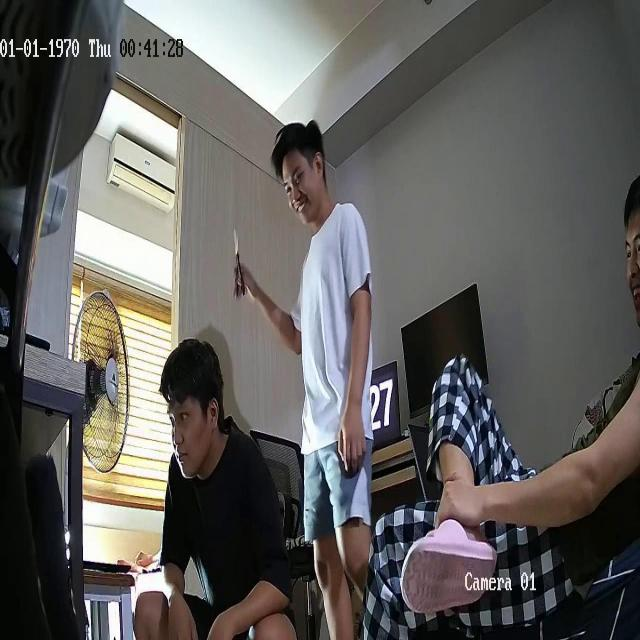scissor: (233, 226, 244, 298)
